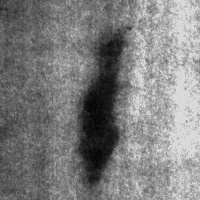patches: (76, 74, 127, 186), (97, 24, 134, 82)
